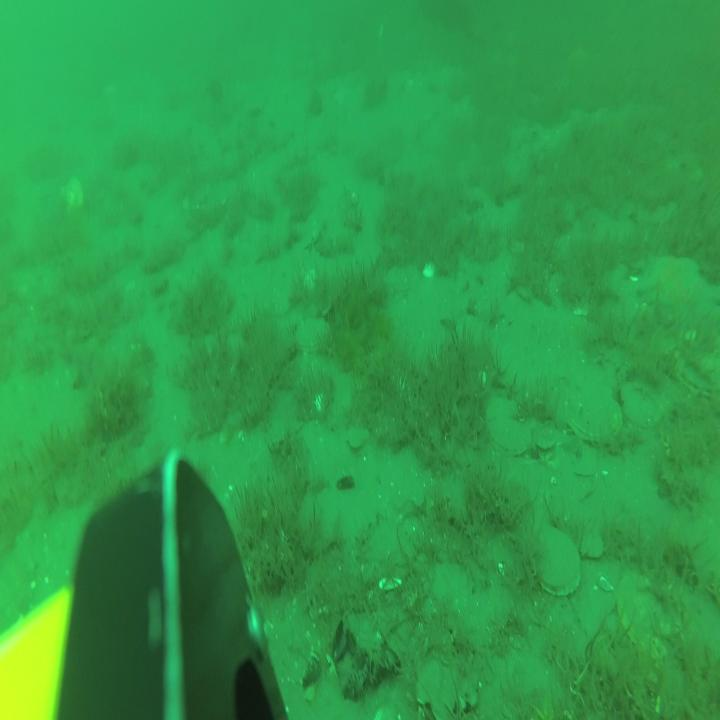scallop: (615, 568, 670, 654), (531, 527, 580, 595), (568, 388, 622, 444), (676, 349, 720, 397), (491, 413, 531, 456), (624, 382, 661, 428), (296, 315, 328, 353), (60, 176, 84, 215), (387, 266, 413, 297), (582, 530, 605, 558), (346, 426, 370, 451), (537, 433, 554, 454)
starfish: (638, 252, 703, 315), (372, 704, 397, 720)
